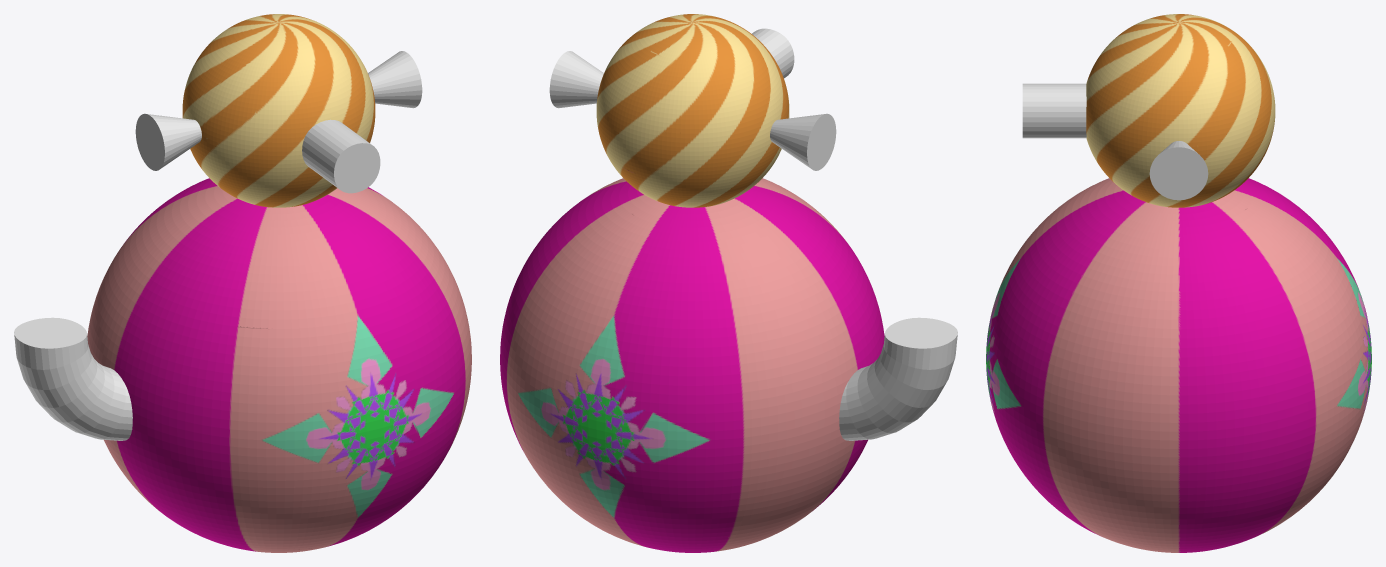
Rendered from BOD0_BMC10_BCC11_BPT2_FRC29_HEA0_HMC5_HCC13_HPT3_ELT3_ERT3_ELL0_ERL0_AP1_AAL1_AAR1_BEK1.fbx.
The picture shows the model from 3 angles, left to right: view 1: azimuth 30°, elevation 25°; view 2: azimuth 150°, elevation 25°; view 3: azimuth 270°, elevation 25°; orthographic projection.
Visible parts, largest first — view 1: Body, Arm, Beak, Ear, Ear.001; view 2: Body, Arm, Ear, Ear.001, Beak; view 3: Body, Beak, Ear.001.
Boxes of the visible parts, left/top/right/bottom form: Body: left=87, top=14, right=471, bottom=552; Arm: left=14, top=317, right=132, bottom=440; Beak: left=302, top=119, right=380, bottom=193; Ear: left=135, top=113, right=201, bottom=170; Ear.001: left=368, top=51, right=422, bottom=108; Body: left=500, top=14, right=884, bottom=552; Arm: left=839, top=317, right=957, bottom=440; Ear: left=770, top=113, right=836, bottom=170; Ear.001: left=549, top=51, right=603, bottom=108; Beak: left=752, top=28, right=794, bottom=78; Body: left=986, top=14, right=1371, bottom=552; Beak: left=1022, top=83, right=1086, bottom=138; Ear.001: left=1149, top=141, right=1208, bottom=200.
Size of the model in its own units: 62.99 by 72.41 by 49.36.
Materials: 1 (1 with a texture image).
